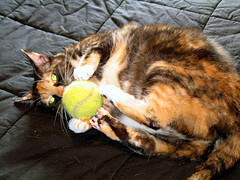tennis ball: (61, 80, 105, 121)
